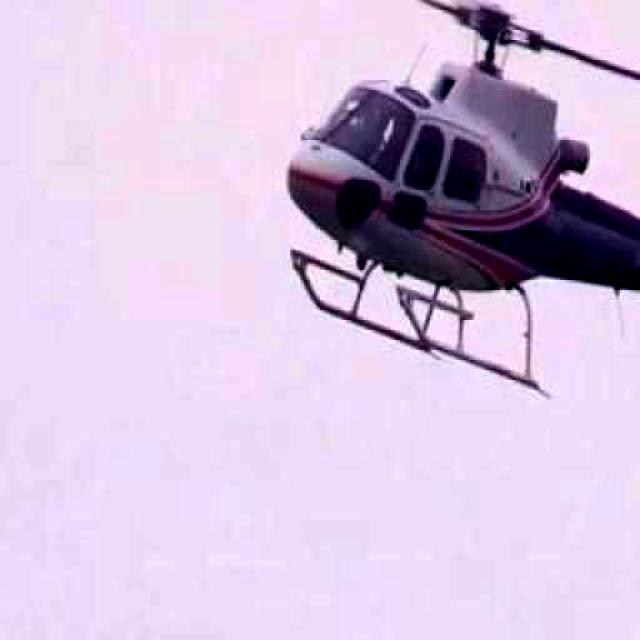drone: (131, 0, 640, 458)
